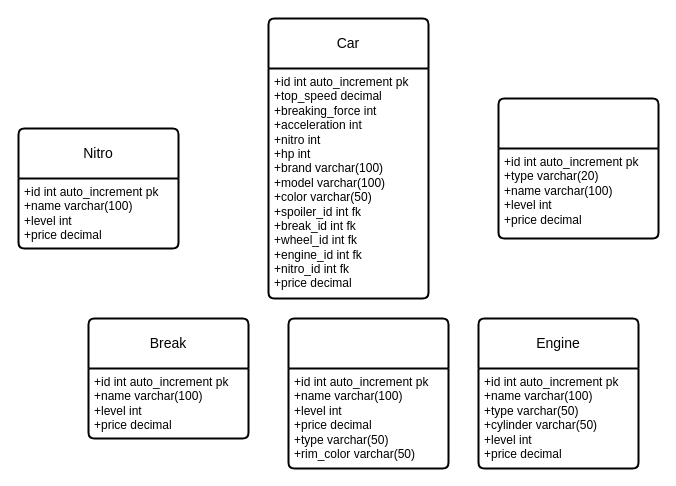
This 676x486 diagram has some shape labels left out. Each missing label, with the box of its shape:
Spoiler: (497, 97, 659, 239)
Wheel: (287, 317, 449, 469)
